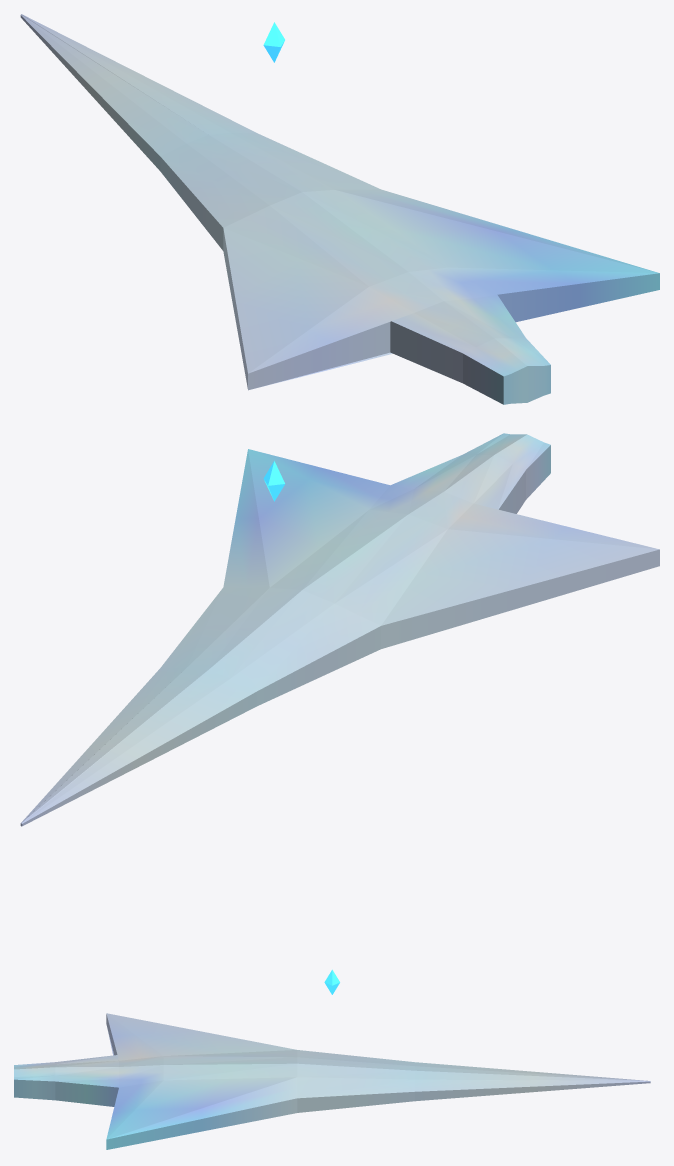
Rendered from 06_artillerieplattform.glb.
3 views of the same model, one above another, from view 1: azimuth 30°, elevation 25°; view 2: azimuth 150°, elevation 25°; view 3: azimuth 270°, elevation 25° (orthographic). The views are drawn at different scales.
Parts seen in each view (by area): view 1: Hull; view 2: Hull; view 3: Hull.
Boxes of the visible parts, <box> form: Hull: <box>20,14,659,404</box>; Hull: <box>20,433,659,826</box>; Hull: <box>14,1013,650,1149</box>.
Size of the model in its own units: 6.57 by 4.41 by 14.18.
